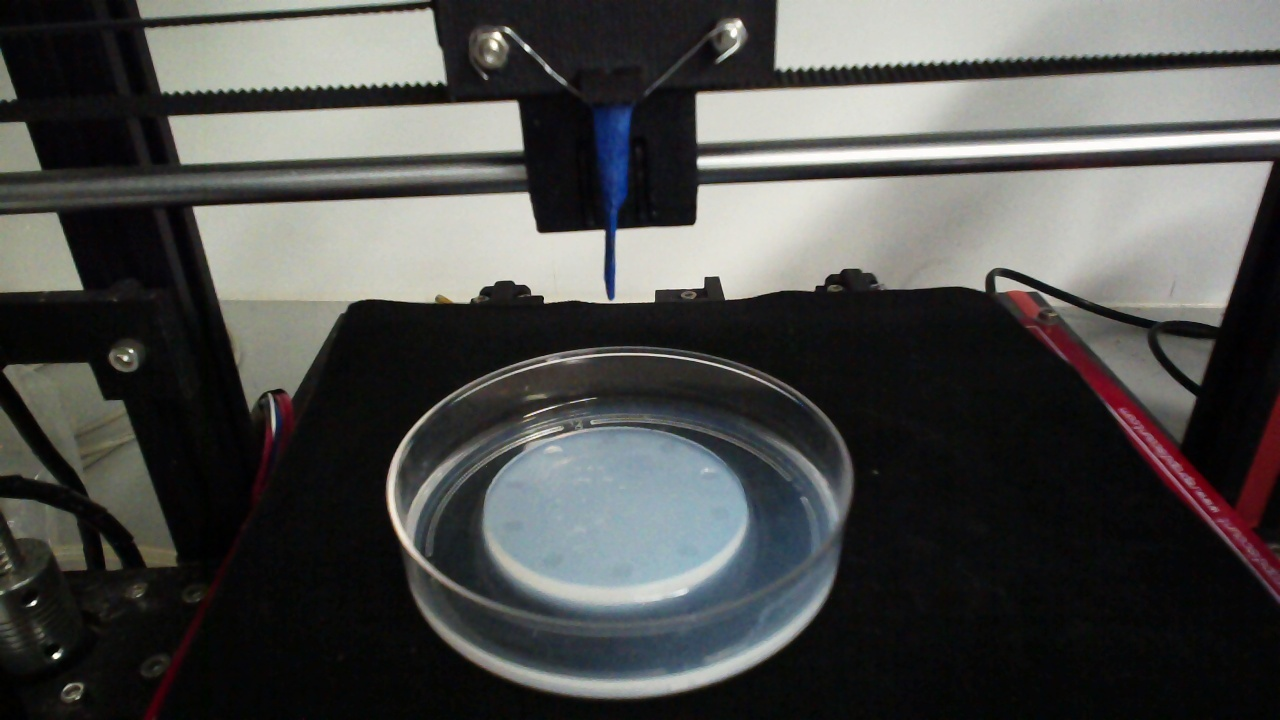groove: (606, 559, 633, 581), (672, 540, 700, 561), (538, 551, 564, 571), (706, 504, 730, 521), (698, 468, 722, 483), (502, 520, 525, 534), (502, 476, 524, 490), (657, 439, 677, 454), (542, 445, 563, 459), (598, 433, 618, 447)
needle: (597, 107, 630, 299)
